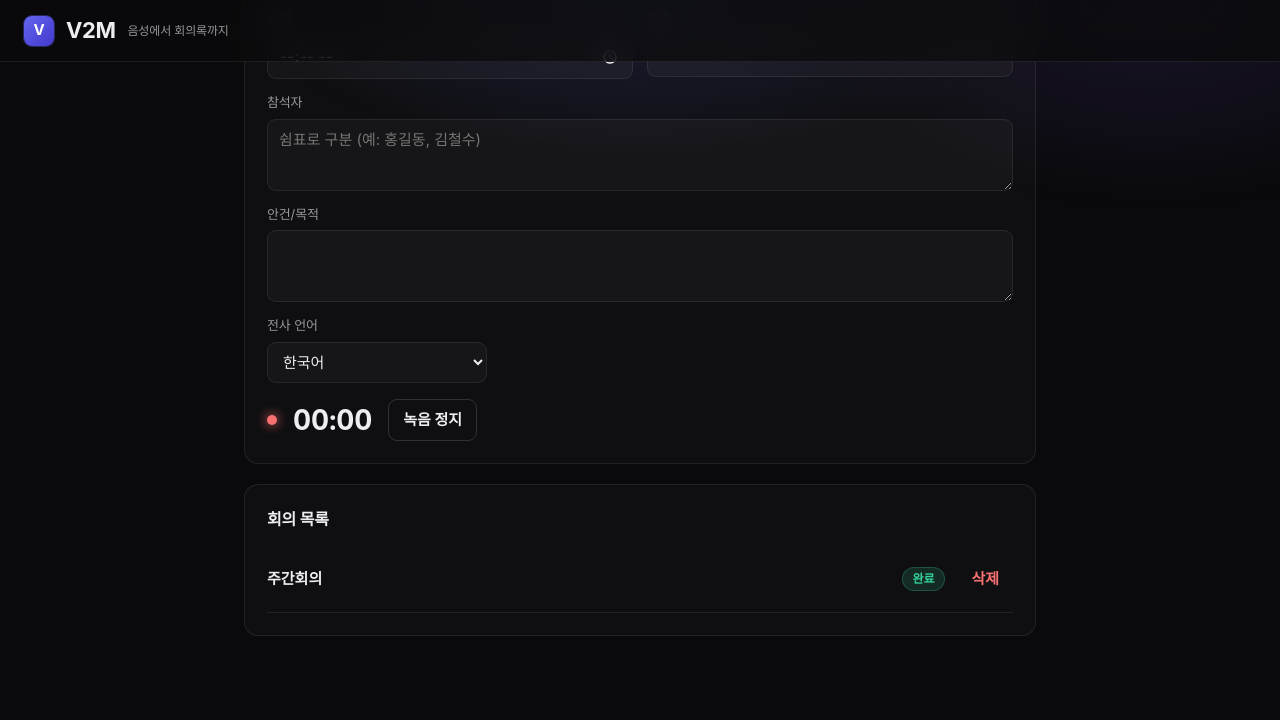
App › keeps recording while navigating to a detail view (no stop, shows top-bar 정지)
(page scrolled)
Click the button "주간회의" at (295, 578), box [263,560,894,598]
(page scrolled)
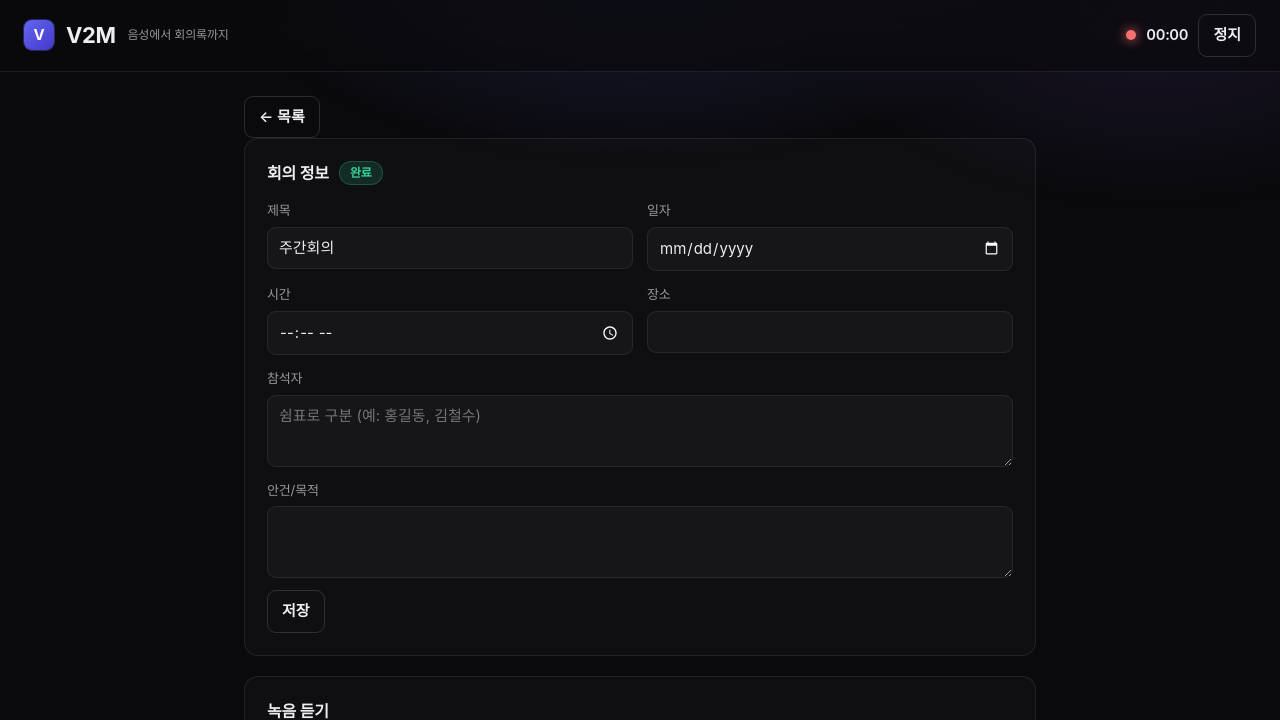
Expected: the button "정지" is shown, [1198,14,1256,56]
Now the button "← 목록" is shown, box [244,96,320,138]
